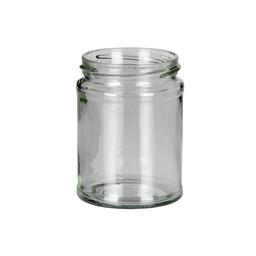glass: (58, 35, 201, 222)
